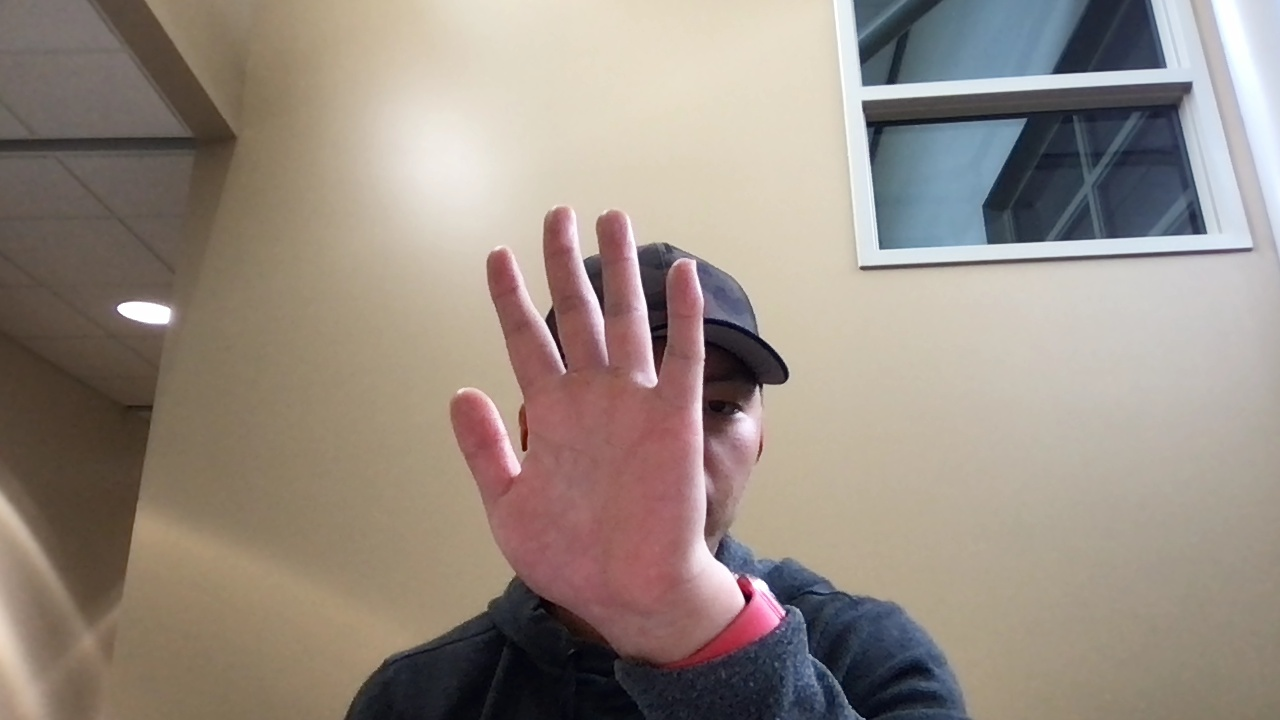Hello: (446, 197, 733, 622)
